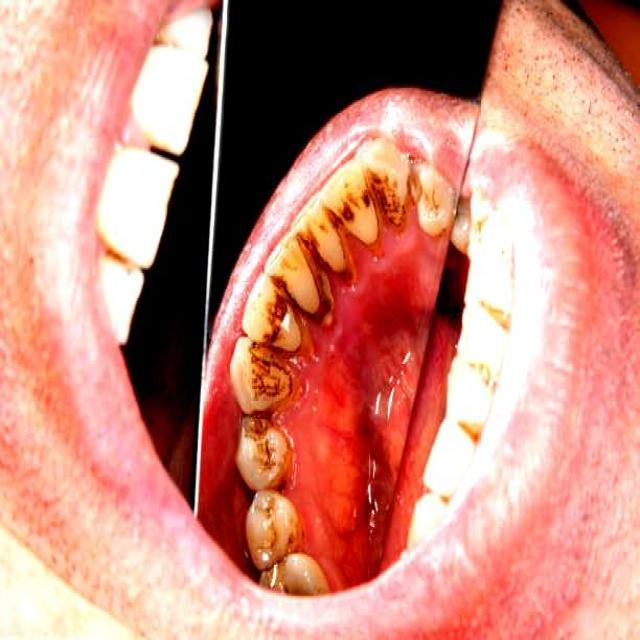calculus: (266, 232, 332, 322), (229, 336, 292, 412), (321, 168, 380, 245), (243, 276, 299, 350), (235, 415, 291, 487), (367, 140, 408, 226)
